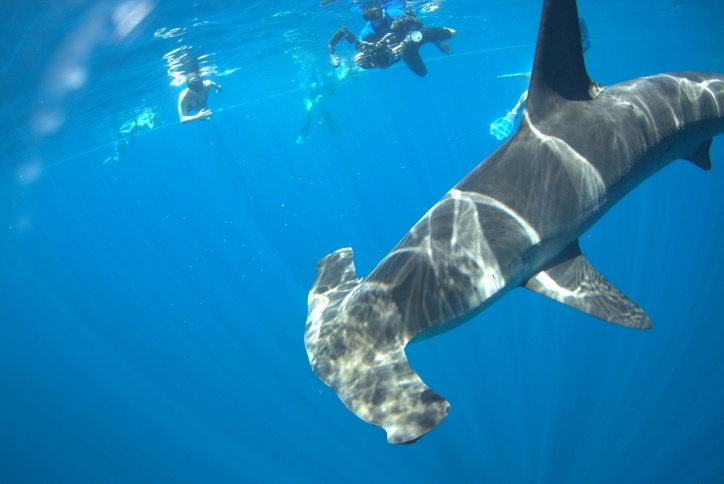Hammer: (302, 1, 724, 460)
